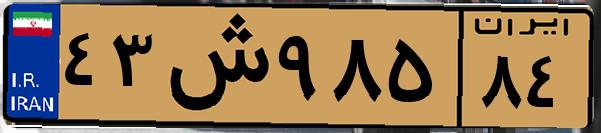3: (110, 28, 158, 98)
4: (57, 26, 110, 100), (525, 38, 570, 115)
5: (385, 28, 445, 110)
8: (330, 28, 385, 110), (475, 38, 525, 113)
9: (270, 28, 330, 110)
ش: (158, 12, 270, 120)
